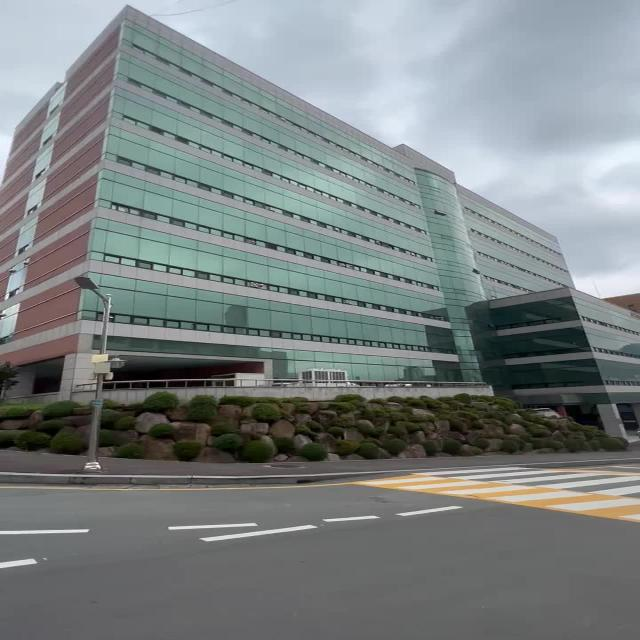building: (2, 35, 620, 402)
